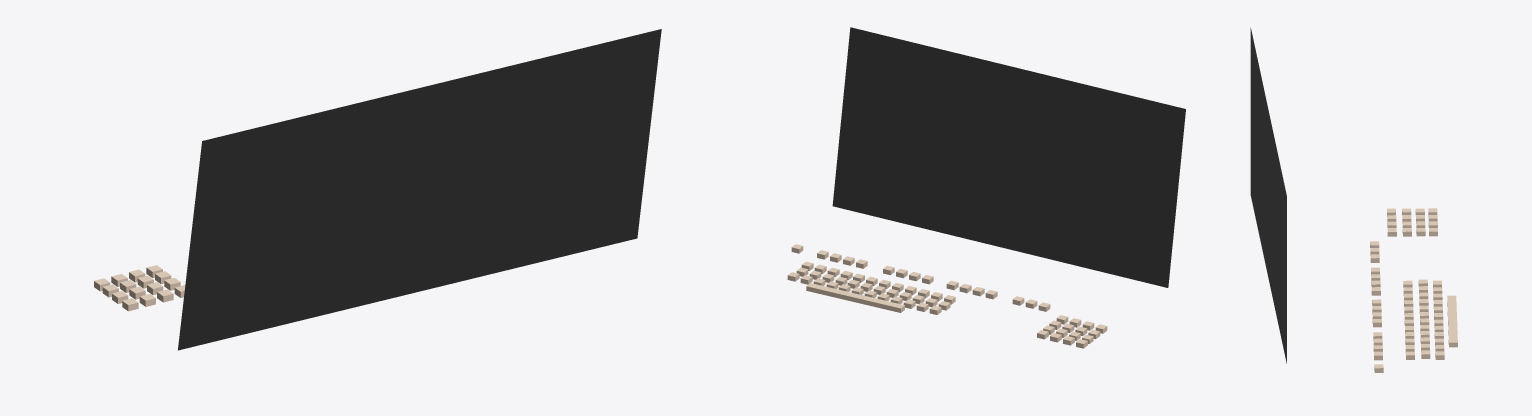
File: Notebook.fbx
3 renders of one model, left to right at view 1: azimuth 30°, elevation 25°; view 2: azimuth 150°, elevation 25°; view 3: azimuth 270°, elevation 25°, orthographic. The views are drawn at different scales.
Visible parts, largest first — view 1: Notebook; view 2: Notebook; view 3: Notebook.
Part boxes in pixels (box(x1,y1,x2,y2)): Notebook: box(94, 29, 661, 350); Notebook: box(787, 27, 1185, 348); Notebook: box(1250, 27, 1457, 372).
Bounding box in the file's own units: 0.4527 × 0.2544 × 0.3116.
